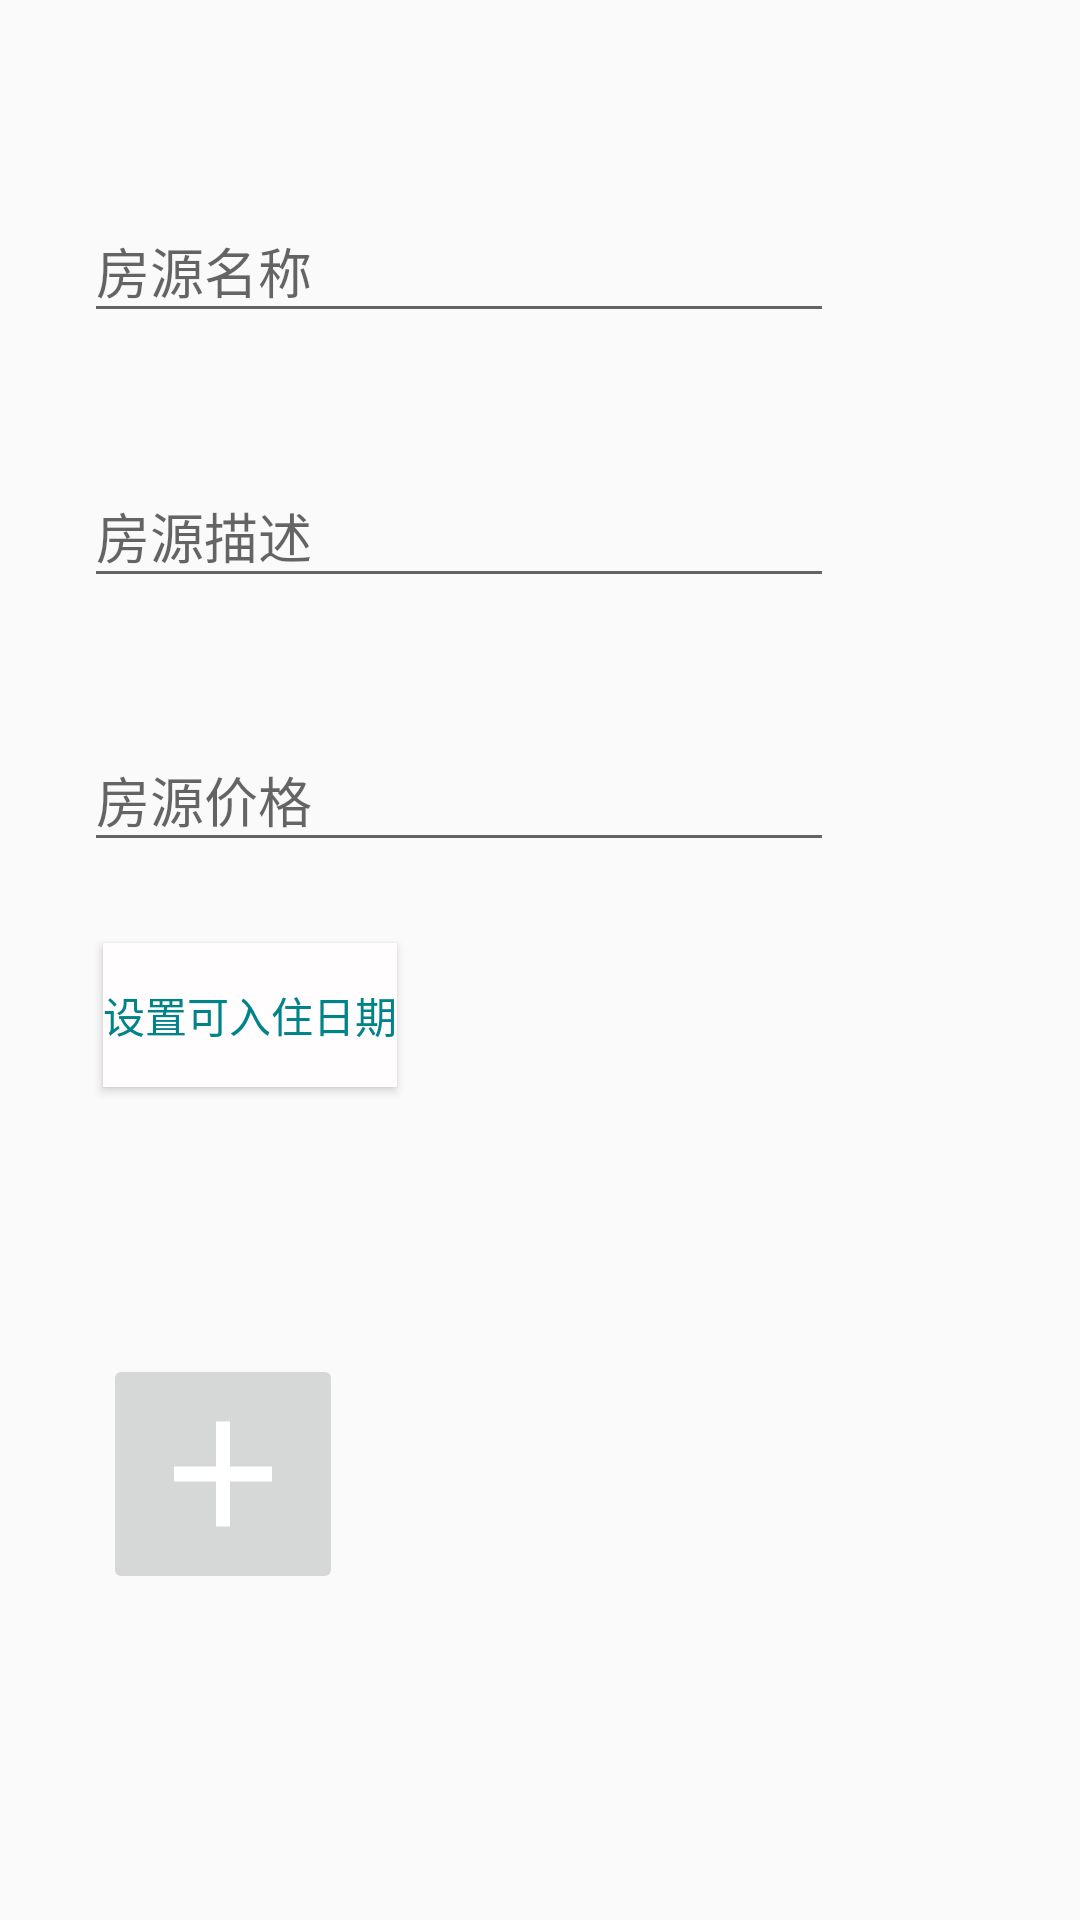

Named icons in this screenshot (1080 × 1920) and their bounding boxes, (x1, y1, x2, y2):
add: (115, 1372, 331, 1576)
